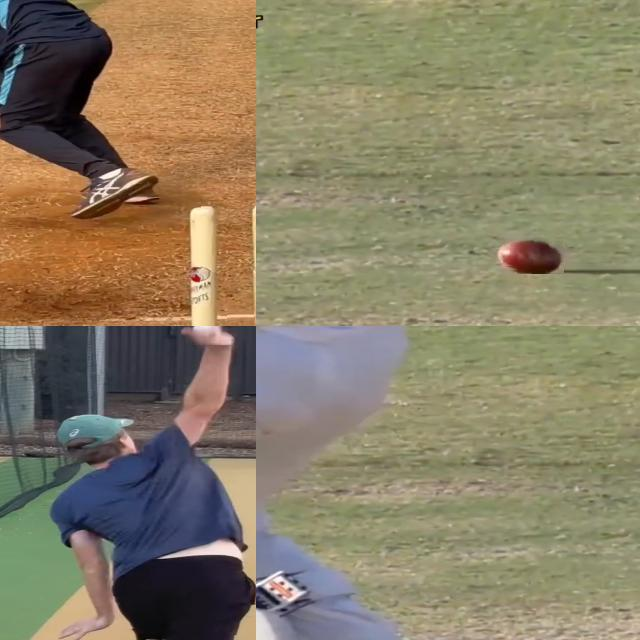Cricket ball: (496, 235, 565, 274), (184, 326, 241, 345)
Stumps: (187, 205, 256, 326)
